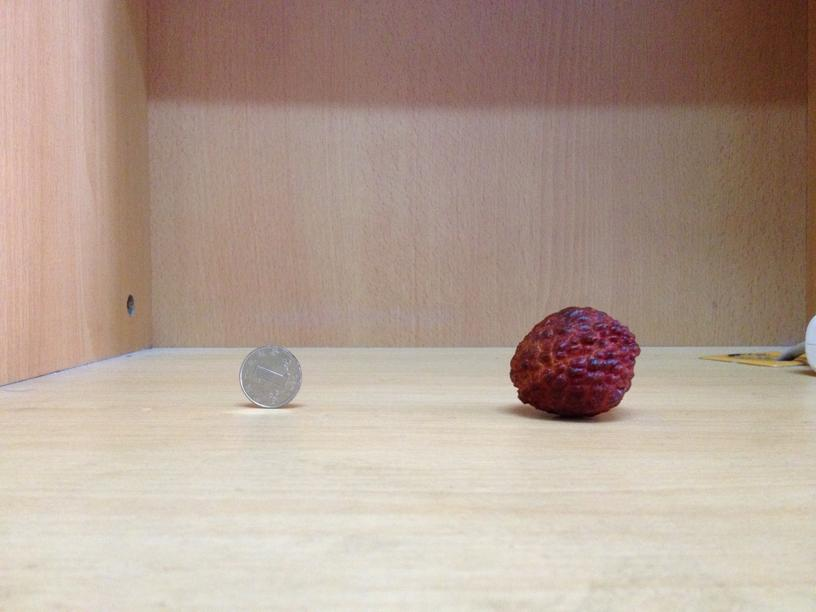coin: (238, 343, 304, 410)
litchi: (510, 305, 638, 421)
